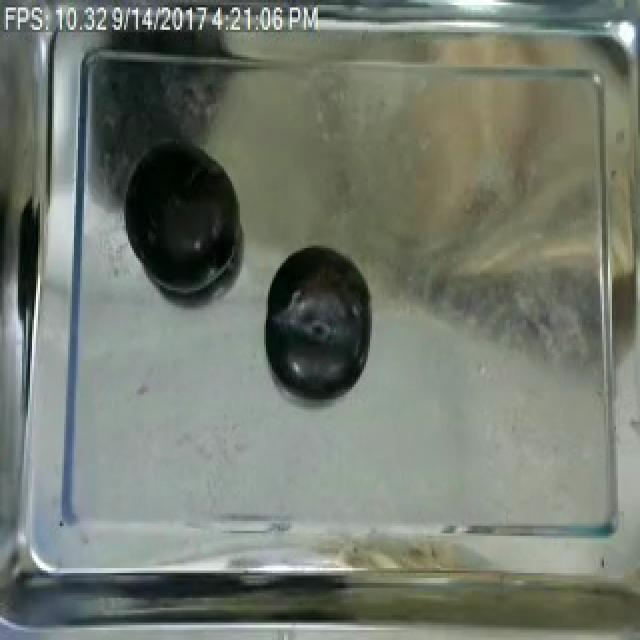Fruit: (118, 139, 246, 303), (258, 238, 376, 404)
